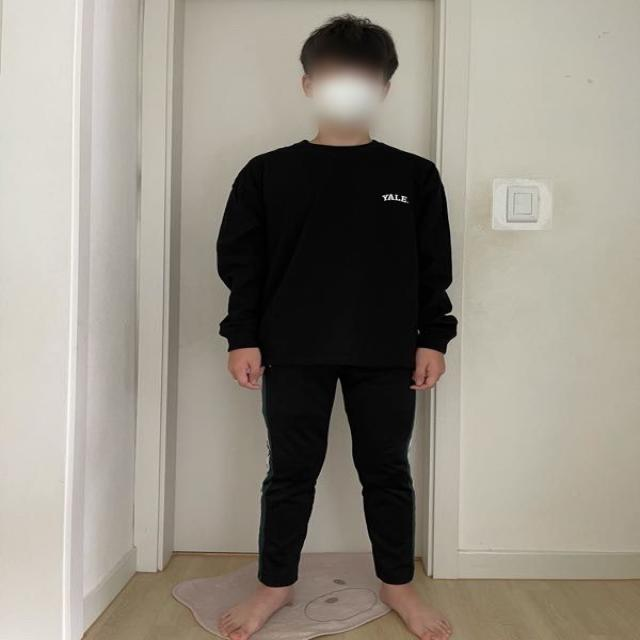denimpants: (258, 360, 414, 586)
mtm: (213, 137, 453, 368)
